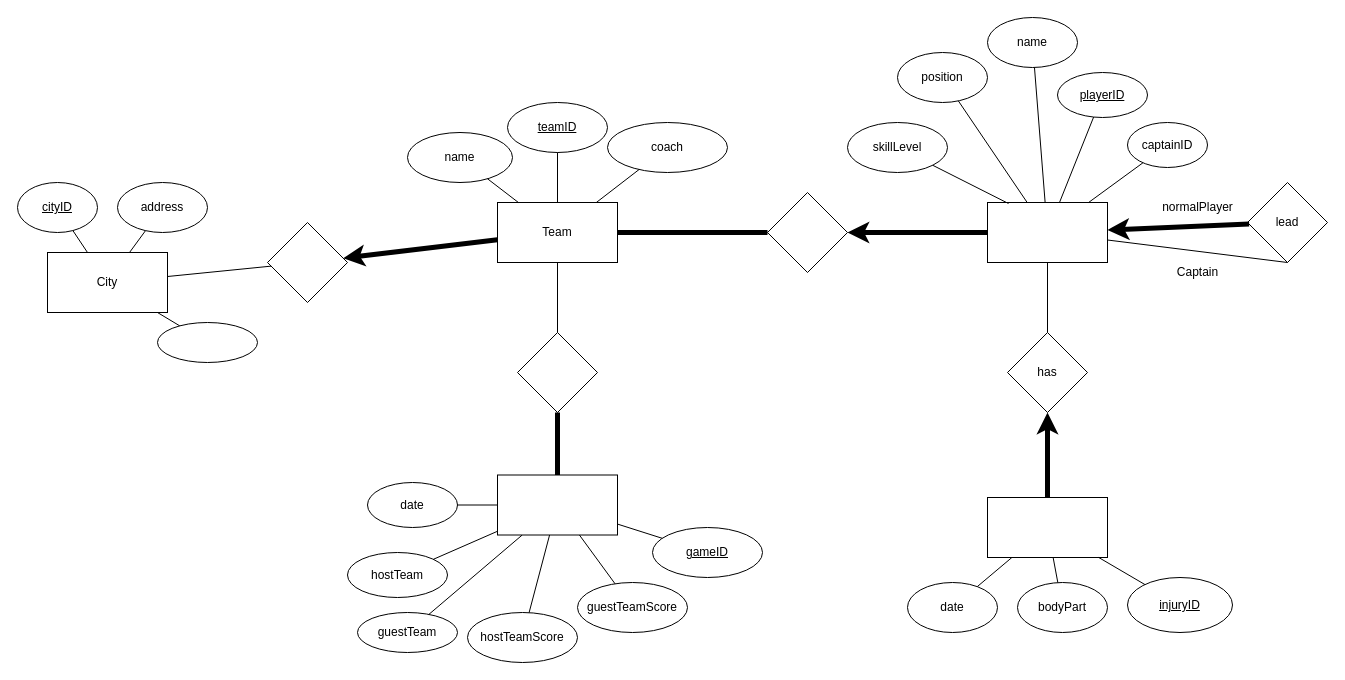
The diagram is 1345 pixels wide and 680 high, and some of its shapes have lost their labels. The box of each missing label's shape, as (x1, y1, x2, y2) in pixels:
belongs to: (766, 192, 848, 272)
cityName: (156, 322, 258, 362)
Game: (496, 474, 618, 535)
Injury: (986, 496, 1108, 558)
locate: (266, 222, 348, 302)
play: (516, 332, 598, 412)
Player: (986, 202, 1108, 262)
